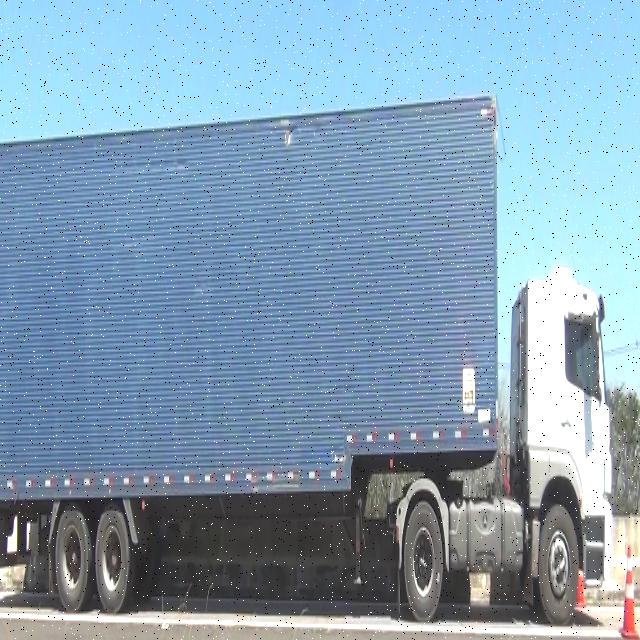-axle: (540, 506, 580, 623), (405, 503, 443, 623), (95, 506, 132, 612), (58, 508, 90, 607)
